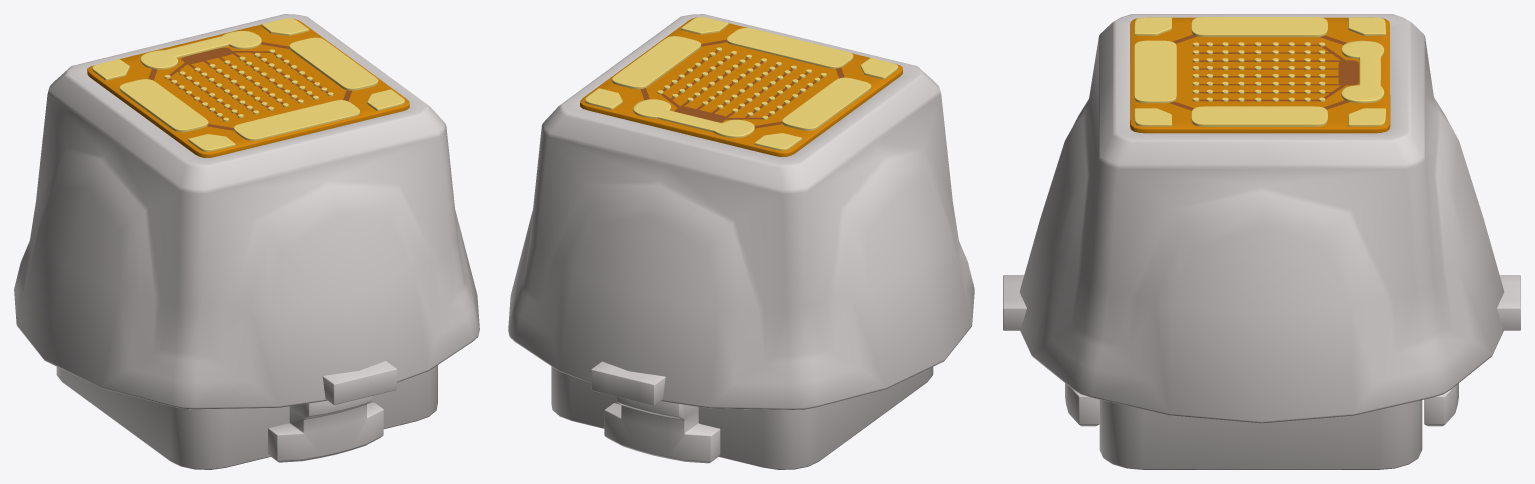
The model's file is therfect_frf_64_v2_240208.glb.
3 views of the same model, side by side, from view 1: azimuth 30°, elevation 25°; view 2: azimuth 150°, elevation 25°; view 3: azimuth 270°, elevation 25° (orthographic). The views are drawn at different scales.
Parts seen in each view (by area): view 1: frf_64; view 2: frf_64; view 3: frf_64.
Part boxes in pixels (box(x1,y1,x2,y2)): frf_64: box(14, 14, 479, 469); frf_64: box(508, 14, 974, 469); frf_64: box(1003, 14, 1520, 469).
Size of the model in its own units: 0.0993 by 0.0719 by 0.1017.
